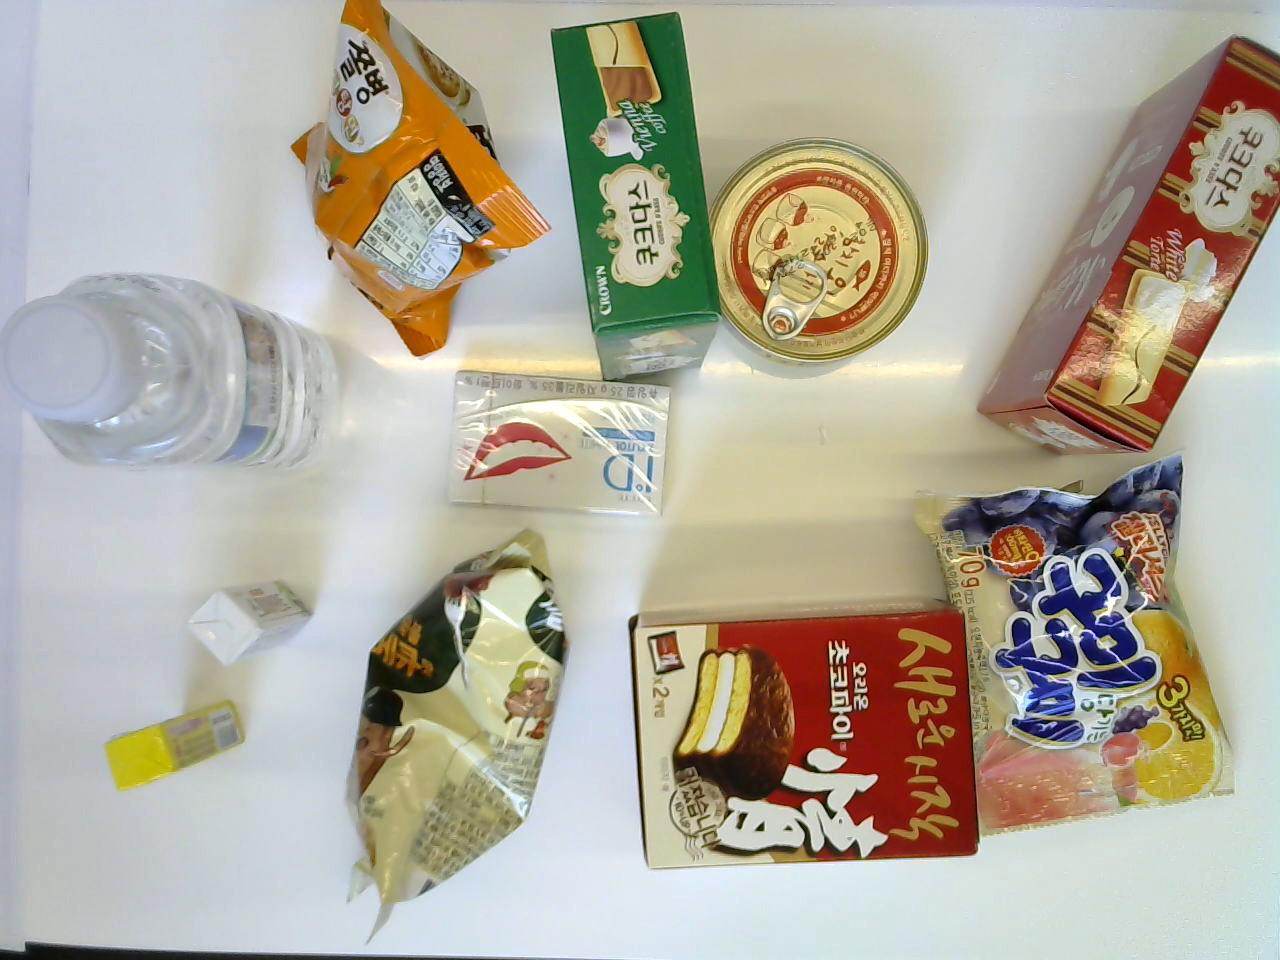ID_gum: (438, 363, 671, 521)
chocopie: (625, 596, 980, 872)
couque_coffee: (545, 0, 723, 390)
couque_white: (971, 27, 1280, 460)
gumi_gumi: (899, 456, 1250, 842)
jjolbyung_noodle: (278, 0, 555, 358)
jjolbyung_ori: (332, 526, 582, 948)
juicyfresh: (101, 699, 255, 796)
samdasu: (0, 260, 346, 478)
spearmint: (181, 577, 316, 674)
tuna: (696, 131, 928, 365)
